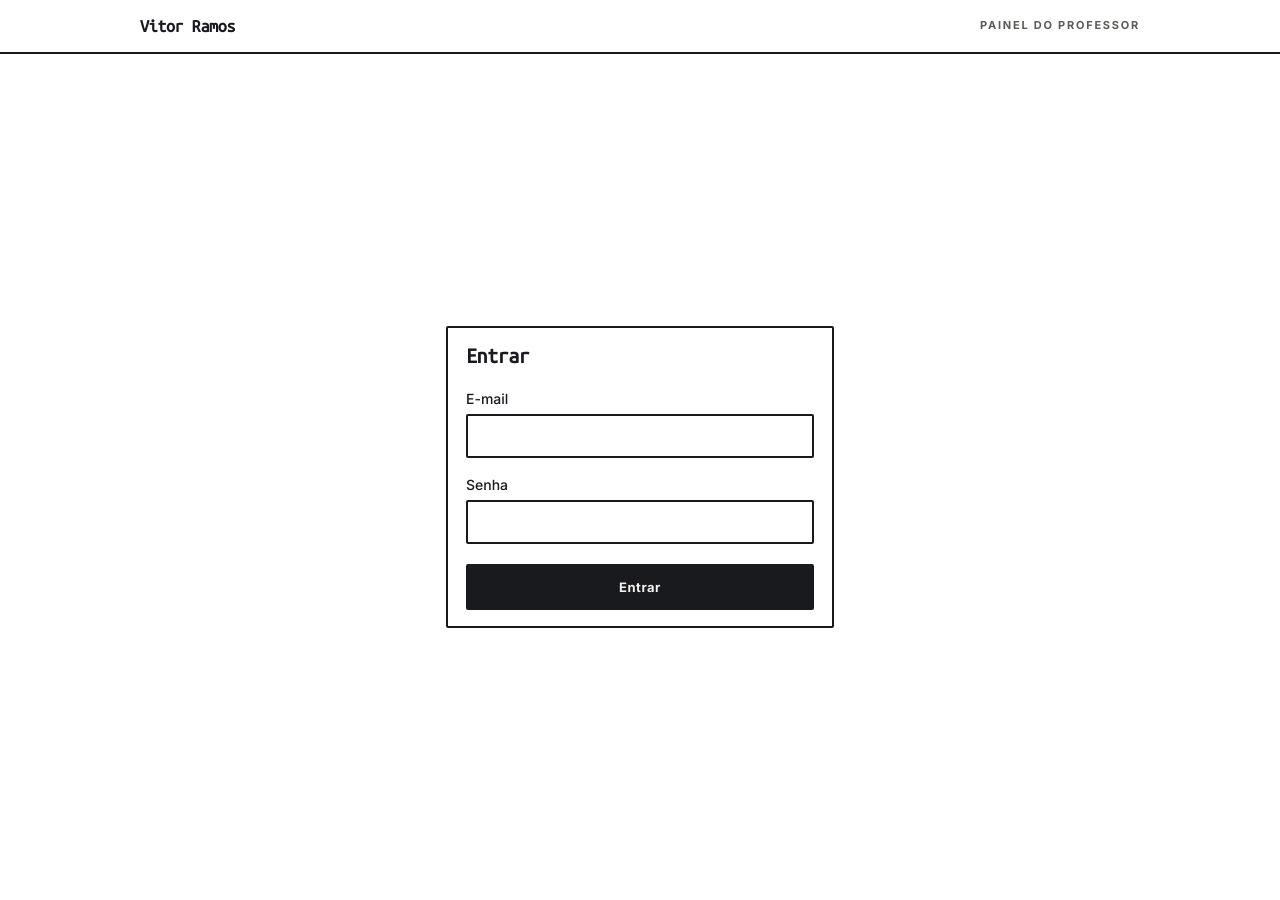
Scenario: Entrar (admin) › mostra erro genérico de credencial sem sair da tela
The image size is (1280, 900).
Type "aluno@vitorramos.test" into the field labelled "E-mail" at (640, 436), box [466,414,814,458]
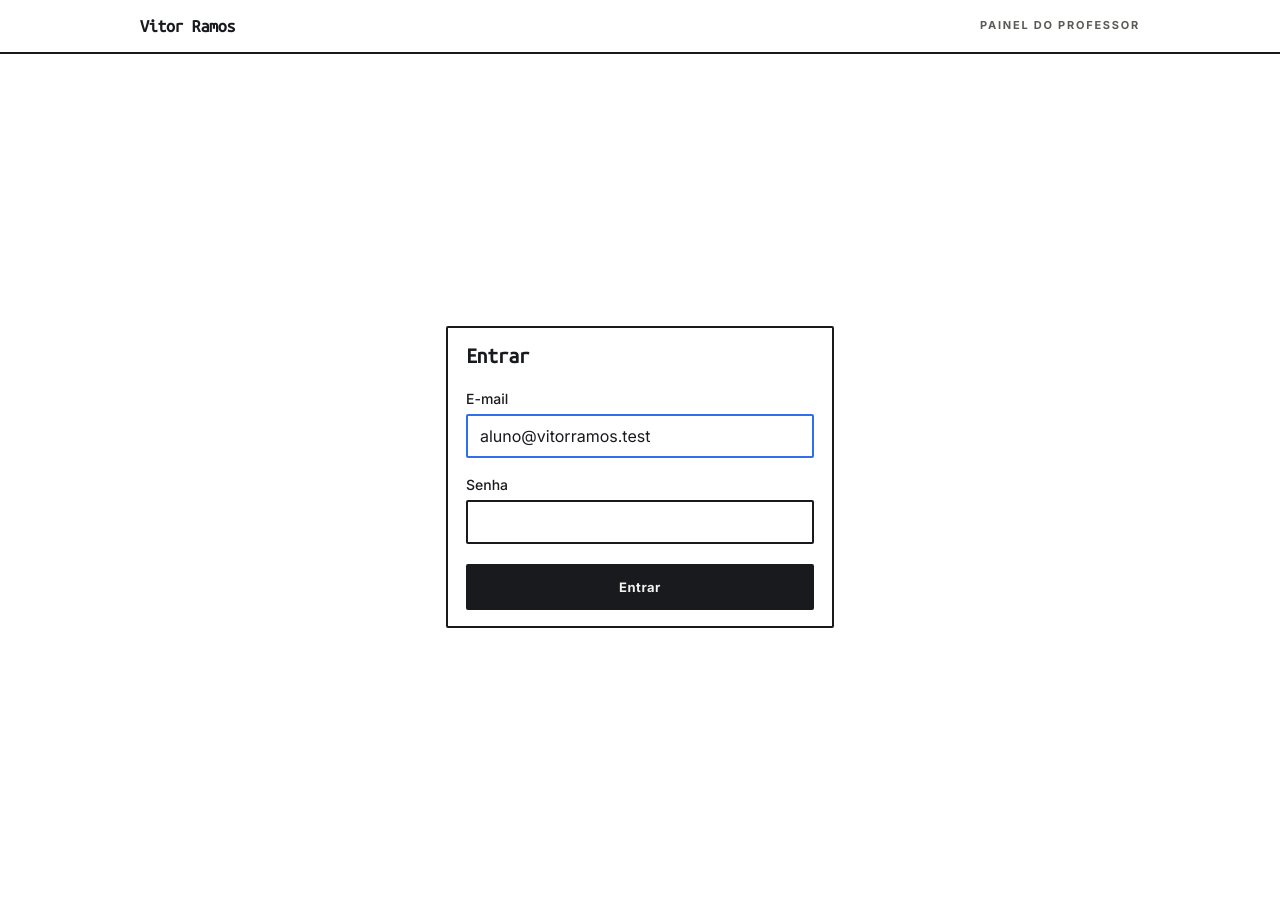
Type "errada" into the password field labelled "Senha" at (640, 522), box [466,500,814,544]
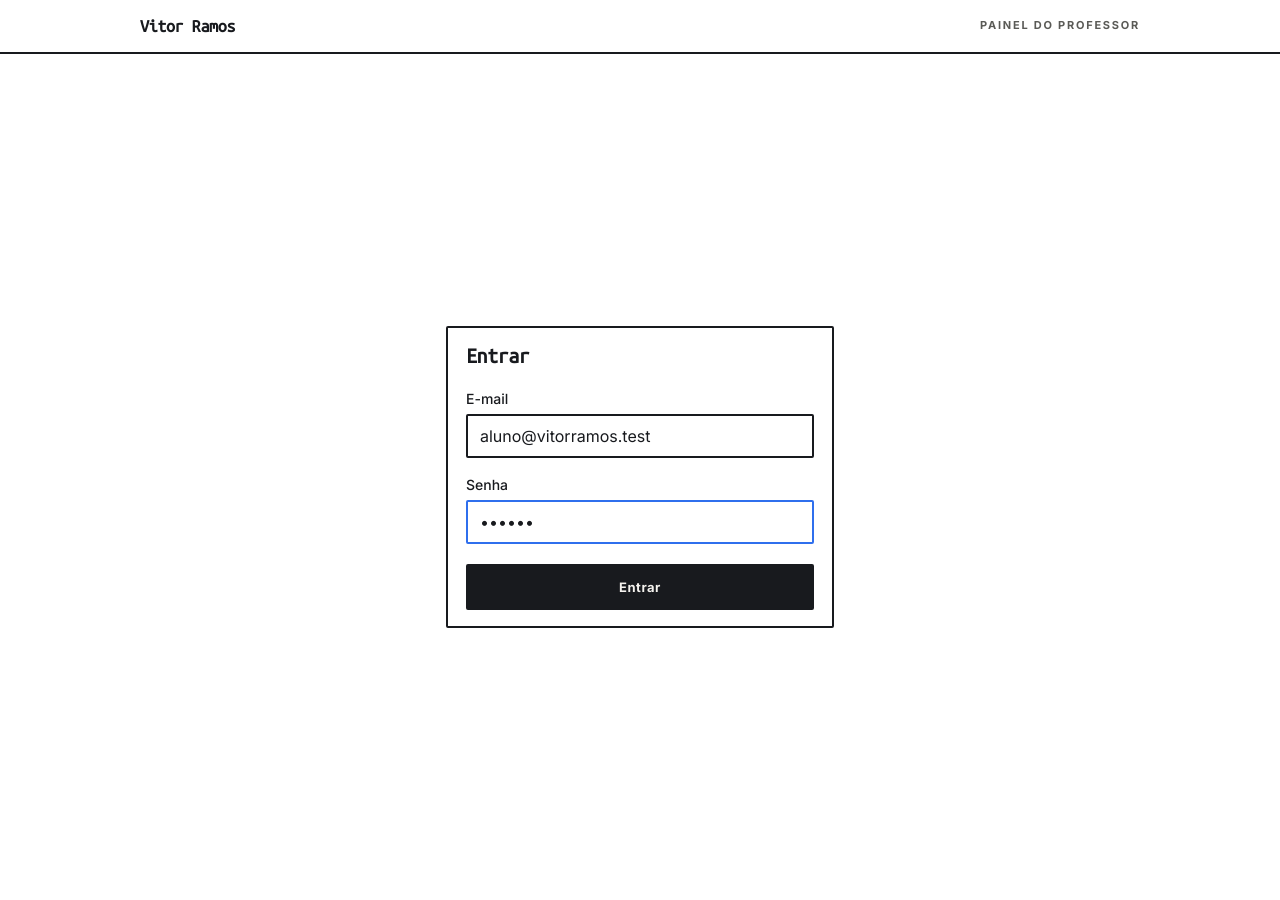
Click the button "Entrar" at (640, 587), box [466,564,814,610]
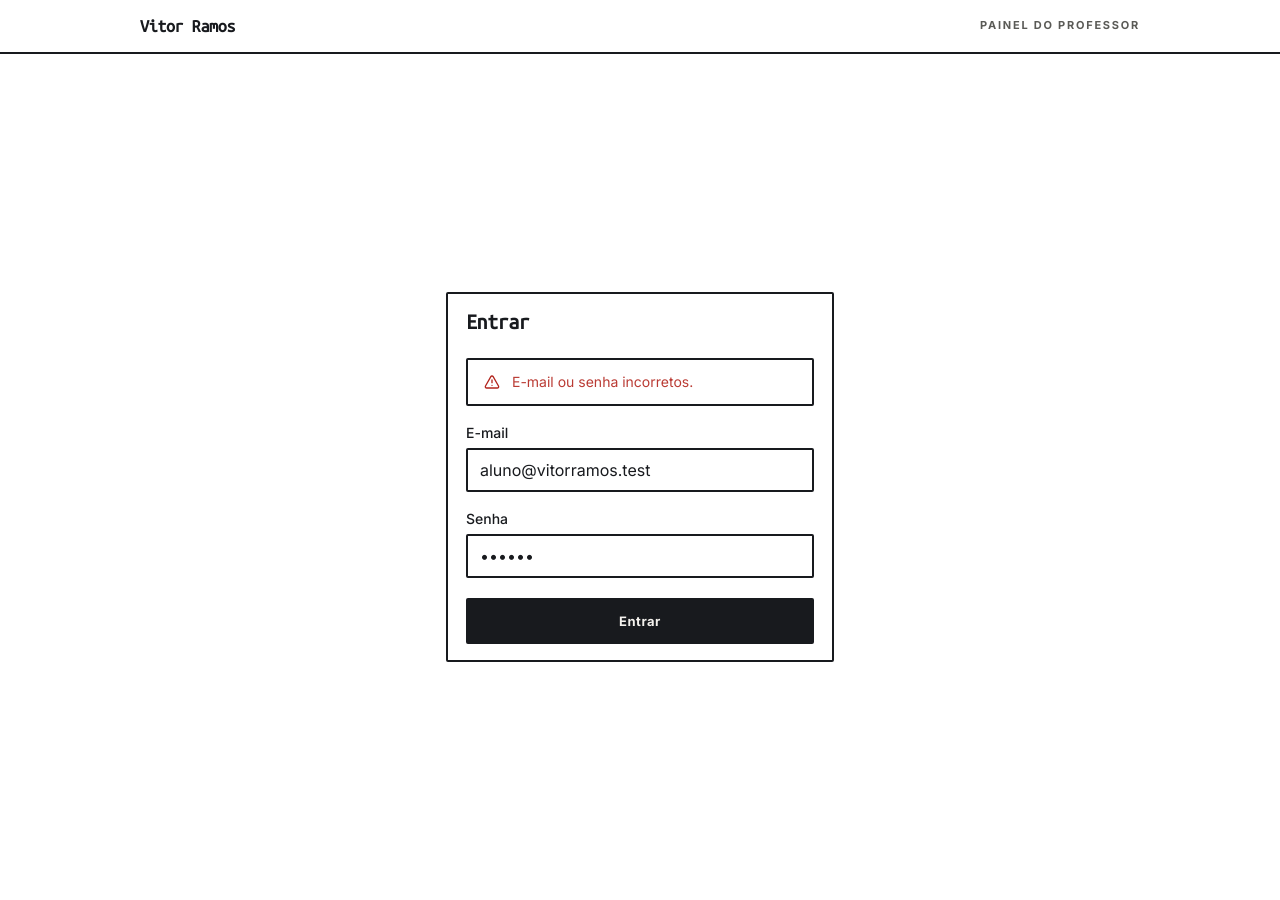
Check: the text "E-mail ou senha incorretos." is shown, box [512,373,693,390]
